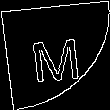M_N: (26, 27, 84, 83)
